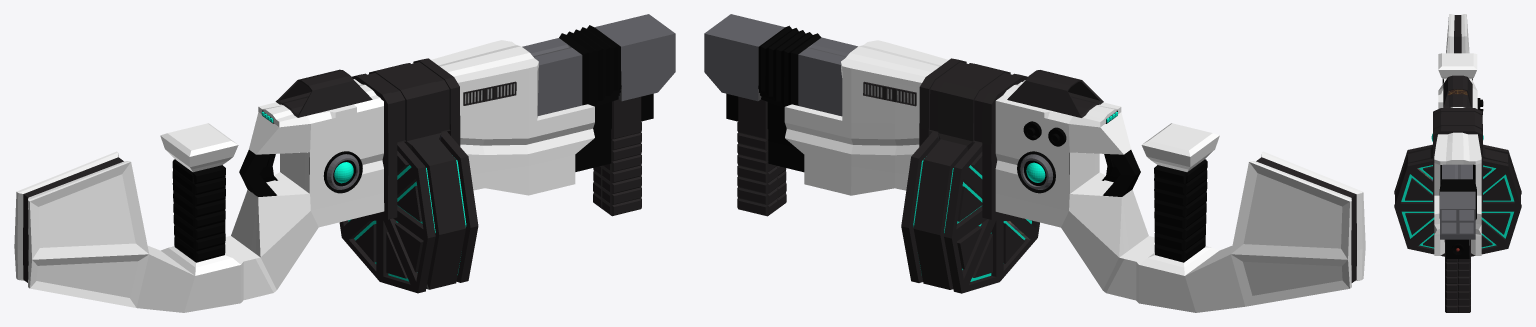
File: blaster Fagerone.fbx
3 renders of one model, left to right at view 1: azimuth 30°, elevation 25°; view 2: azimuth 150°, elevation 25°; view 3: azimuth 270°, elevation 25°, orthographic. The views are drawn at different scales.
Parts seen in each view (by area): view 1: Cube; view 2: Cube; view 3: Cube.
Part boxes in pixels (left/top/right/bottom): Cube: left=14, top=14, right=675, bottom=312; Cube: left=704, top=14, right=1365, bottom=312; Cube: left=1394, top=14, right=1521, bottom=312.
Size of the model in its own units: 6.04 by 1.96 by 1.57.
3 materials, 3 textured.
